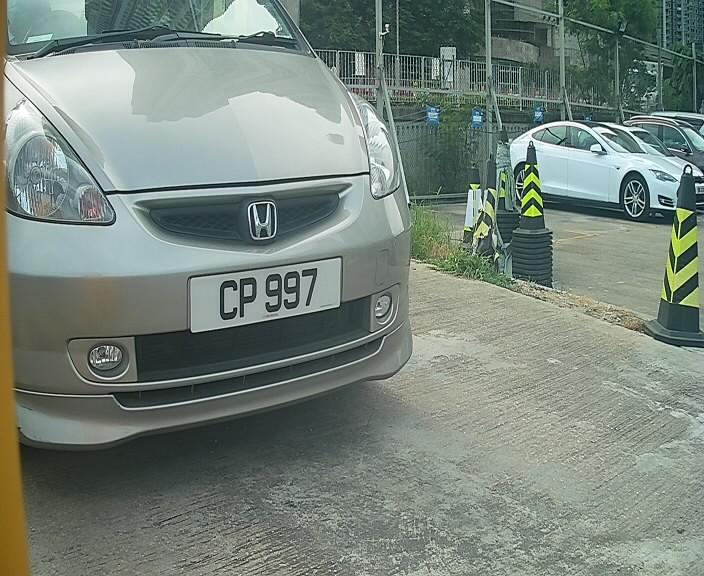License Plate: (186, 253, 340, 337)
